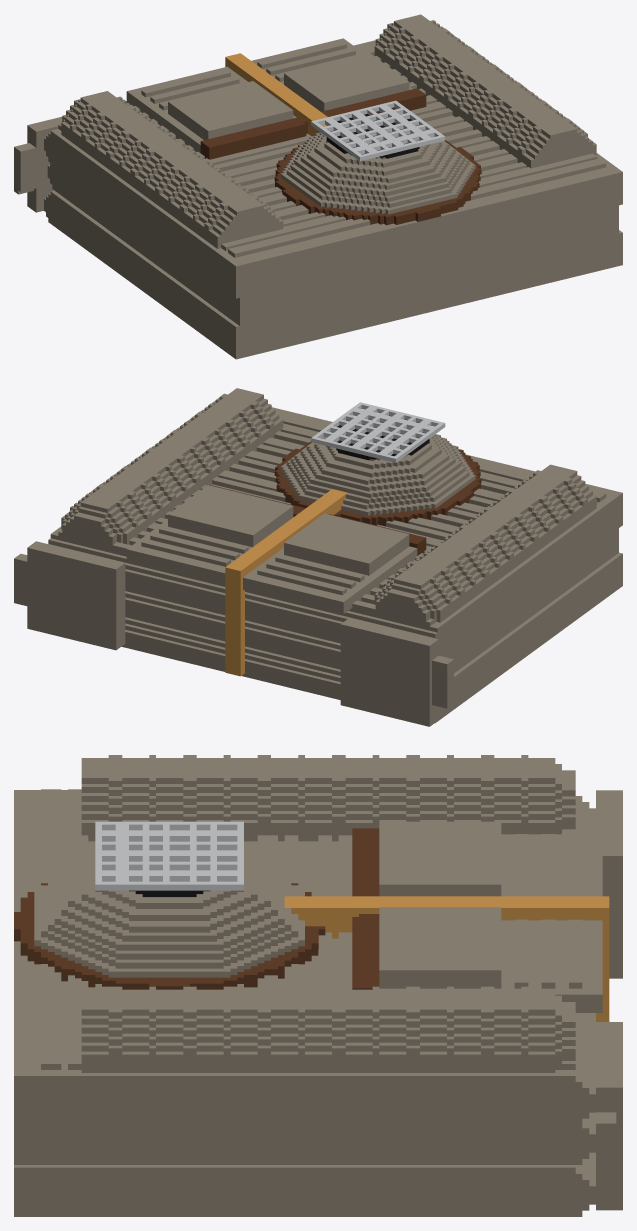
Rendered from chainmail_suit_faraday.glb.
3 renders of one model, top to bottom at view 1: azimuth 30°, elevation 25°; view 2: azimuth 150°, elevation 25°; view 3: azimuth 270°, elevation 25°, orthographic. The views are drawn at different scales.
Parts seen in each view (by area): view 1: chainmail_suit_faraday:compound; view 2: chainmail_suit_faraday:compound; view 3: chainmail_suit_faraday:compound.
Boxes of the visible parts, x1,y1,x2,y2 form: chainmail_suit_faraday:compound: (14,14,622,359); chainmail_suit_faraday:compound: (14,388,622,726); chainmail_suit_faraday:compound: (14,755,622,1216).
Bounding box in the file's own units: 0.448 × 0.144 × 0.36.
